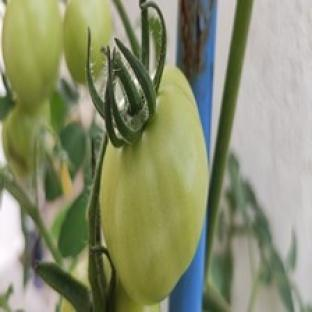Tomato: (101, 67, 208, 303), (2, 102, 48, 178), (109, 283, 160, 311)
